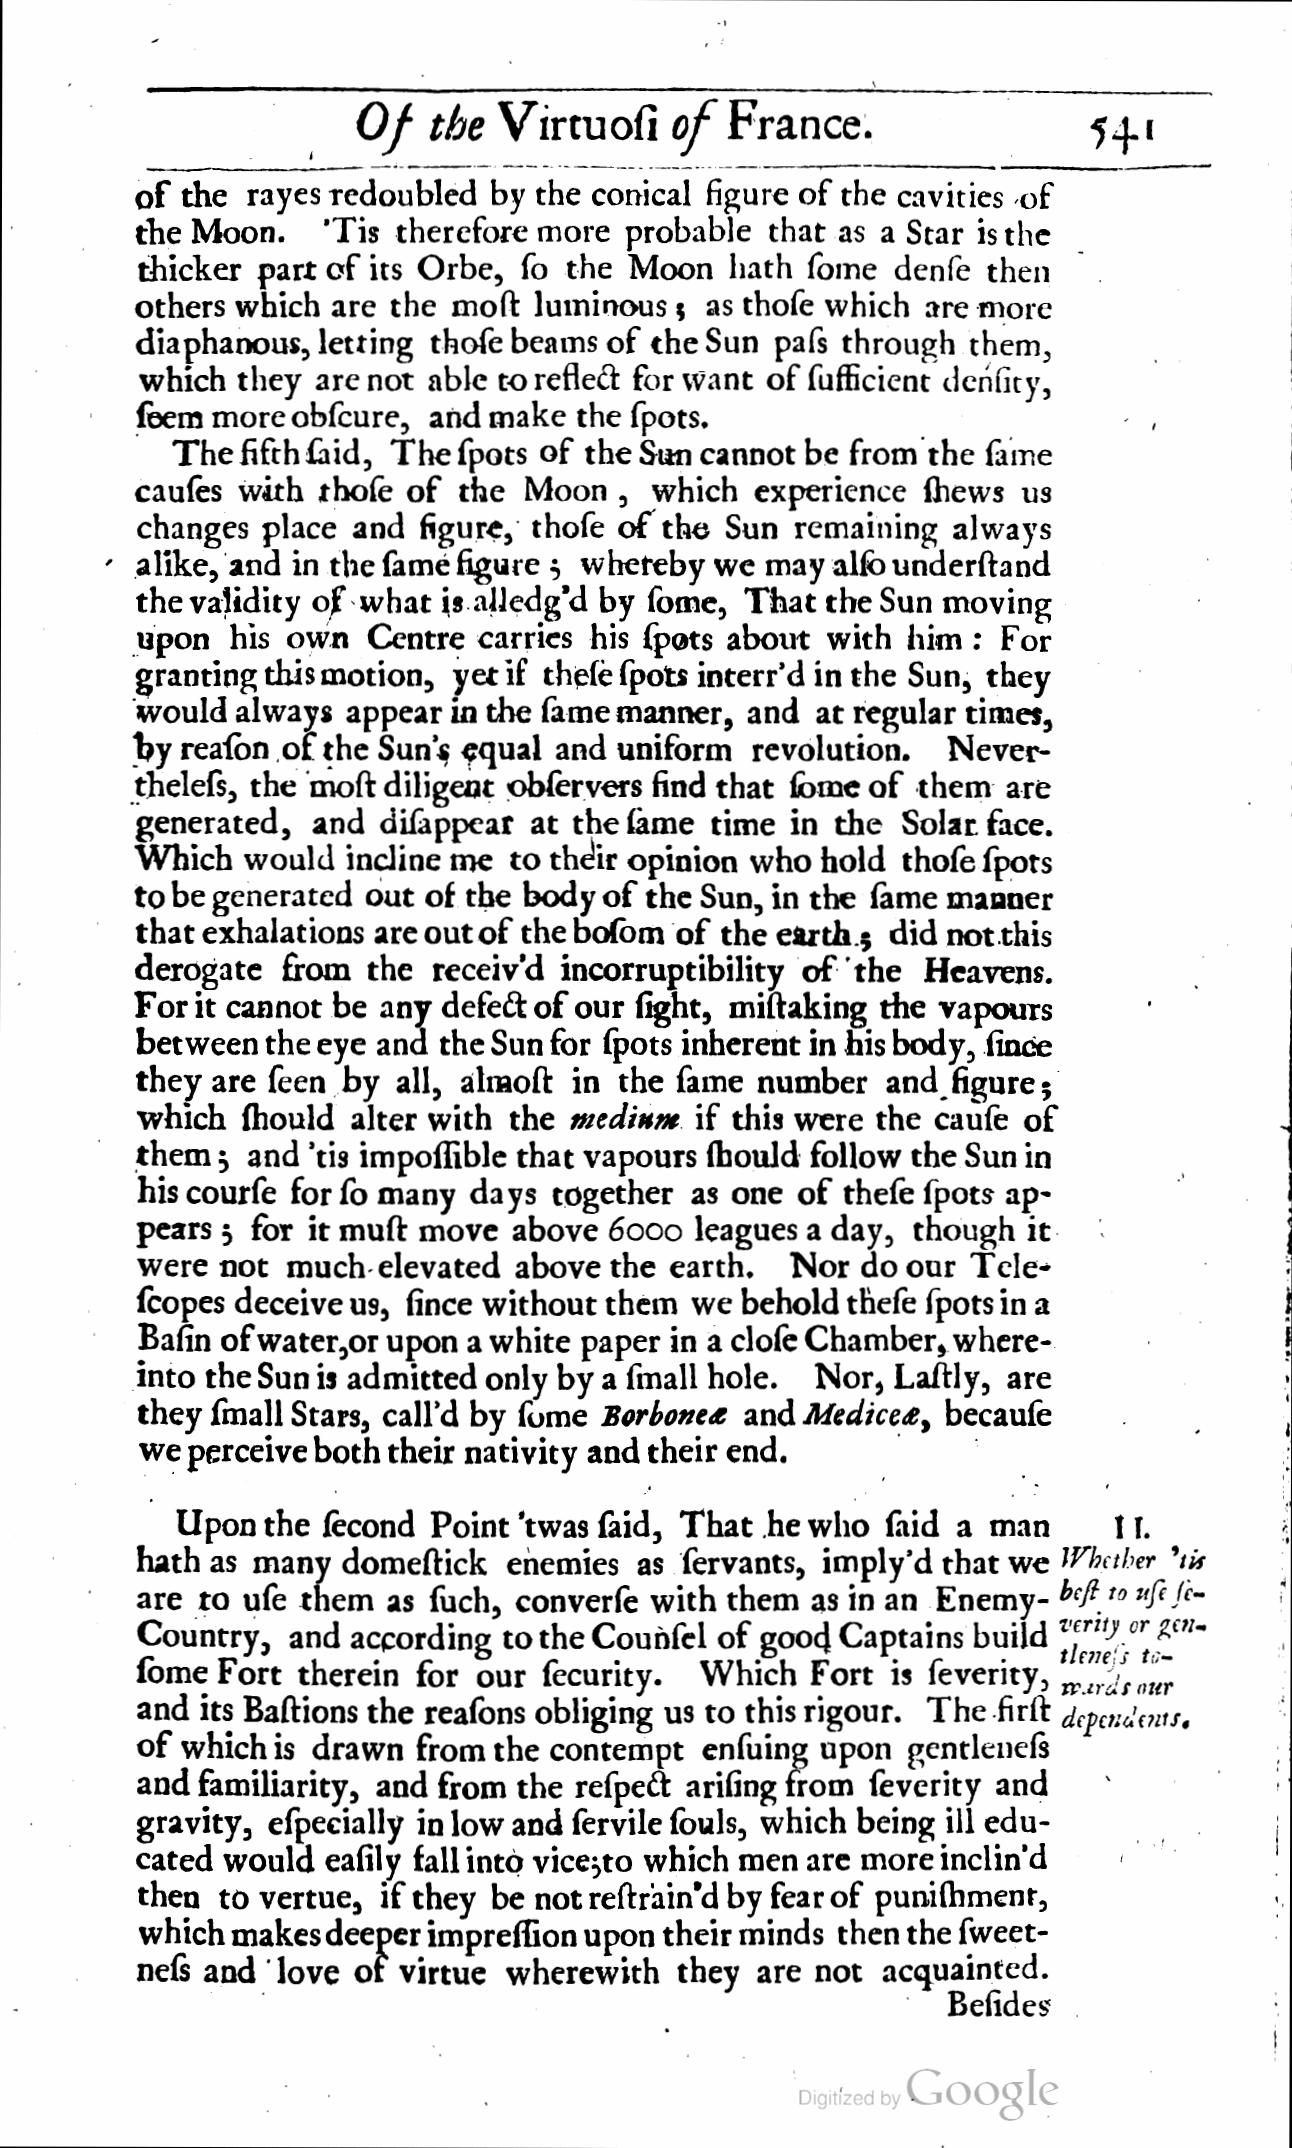bottom_p: (130, 173, 1057, 433)
catchword: (947, 1984, 1053, 2016)
full_p: (130, 433, 1057, 1476)
header: (350, 94, 879, 156)
page_num: (1080, 103, 1163, 156)
print_marg: (1057, 1510, 1214, 1743)
top_p: (130, 1501, 1050, 1990)
